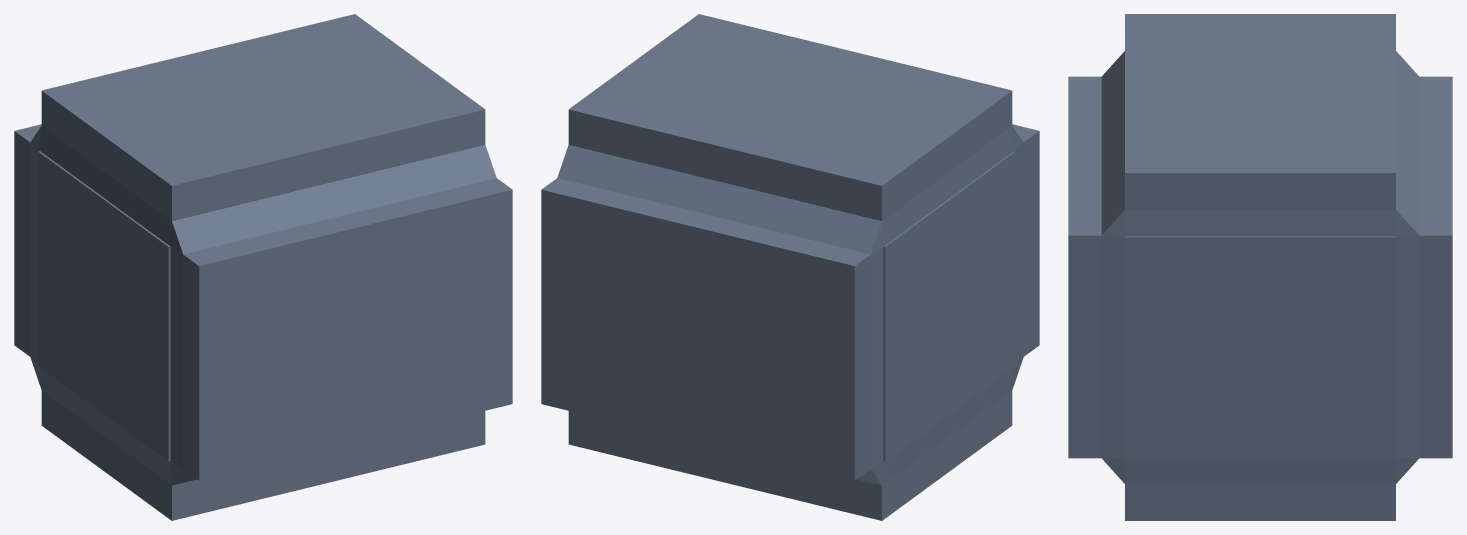
File: bb_comp_GripRig_GripHandle.fbx
3 views of the same model, side by side, from view 1: azimuth 30°, elevation 25°; view 2: azimuth 150°, elevation 25°; view 3: azimuth 270°, elevation 25° (orthographic). The views are drawn at different scales.
Visible parts, largest first — view 1: bb_comp_GripRig_GripHandle; view 2: bb_comp_GripRig_GripHandle; view 3: bb_comp_GripRig_GripHandle.
Boxes of the visible parts, bbox=[...] form: bb_comp_GripRig_GripHandle: bbox=[14, 14, 512, 520]; bb_comp_GripRig_GripHandle: bbox=[541, 14, 1039, 520]; bb_comp_GripRig_GripHandle: bbox=[1068, 14, 1452, 520].
Bounding box in the file's own units: 1 × 1 × 1.
